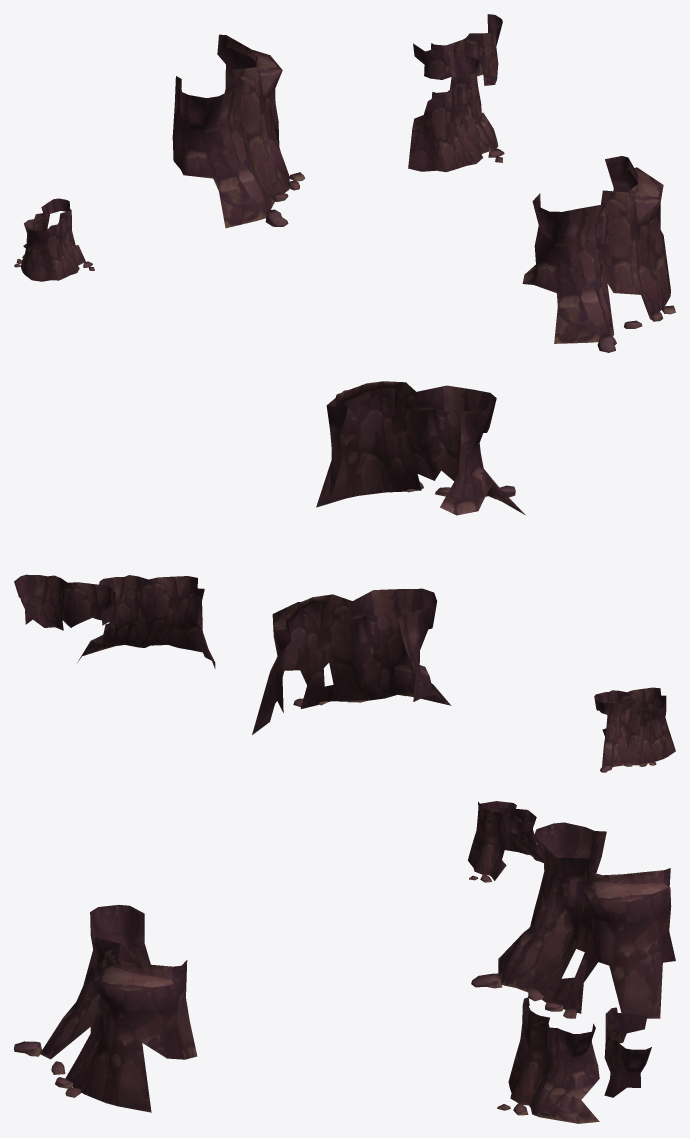
File: area13_shiqiang_03.FBX
3 views of the same model, one above another, from view 1: azimuth 30°, elevation 25°; view 2: azimuth 150°, elevation 25°; view 3: azimuth 270°, elevation 25° (orthographic). The views are drawn at different scales.
Visible parts, largest first — view 1: area13_shiqiang_03; view 2: area13_shiqiang_03; view 3: area13_shiqiang_03.
Boxes of the visible parts, left/top/right/bottom form: area13_shiqiang_03: left=14, top=14, right=675, bottom=352; area13_shiqiang_03: left=14, top=381, right=675, bottom=772; area13_shiqiang_03: left=14, top=801, right=675, bottom=1123.
Size of the model in its own units: 8227 by 1773 by 8002.
